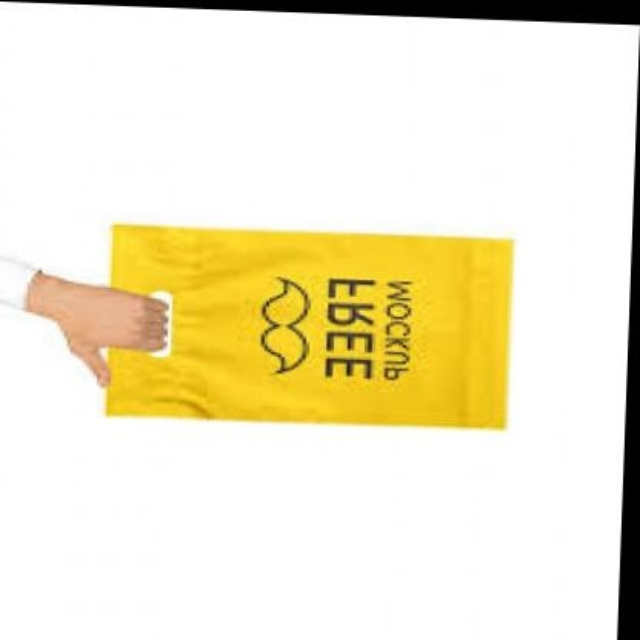trash: (106, 225, 512, 426)
